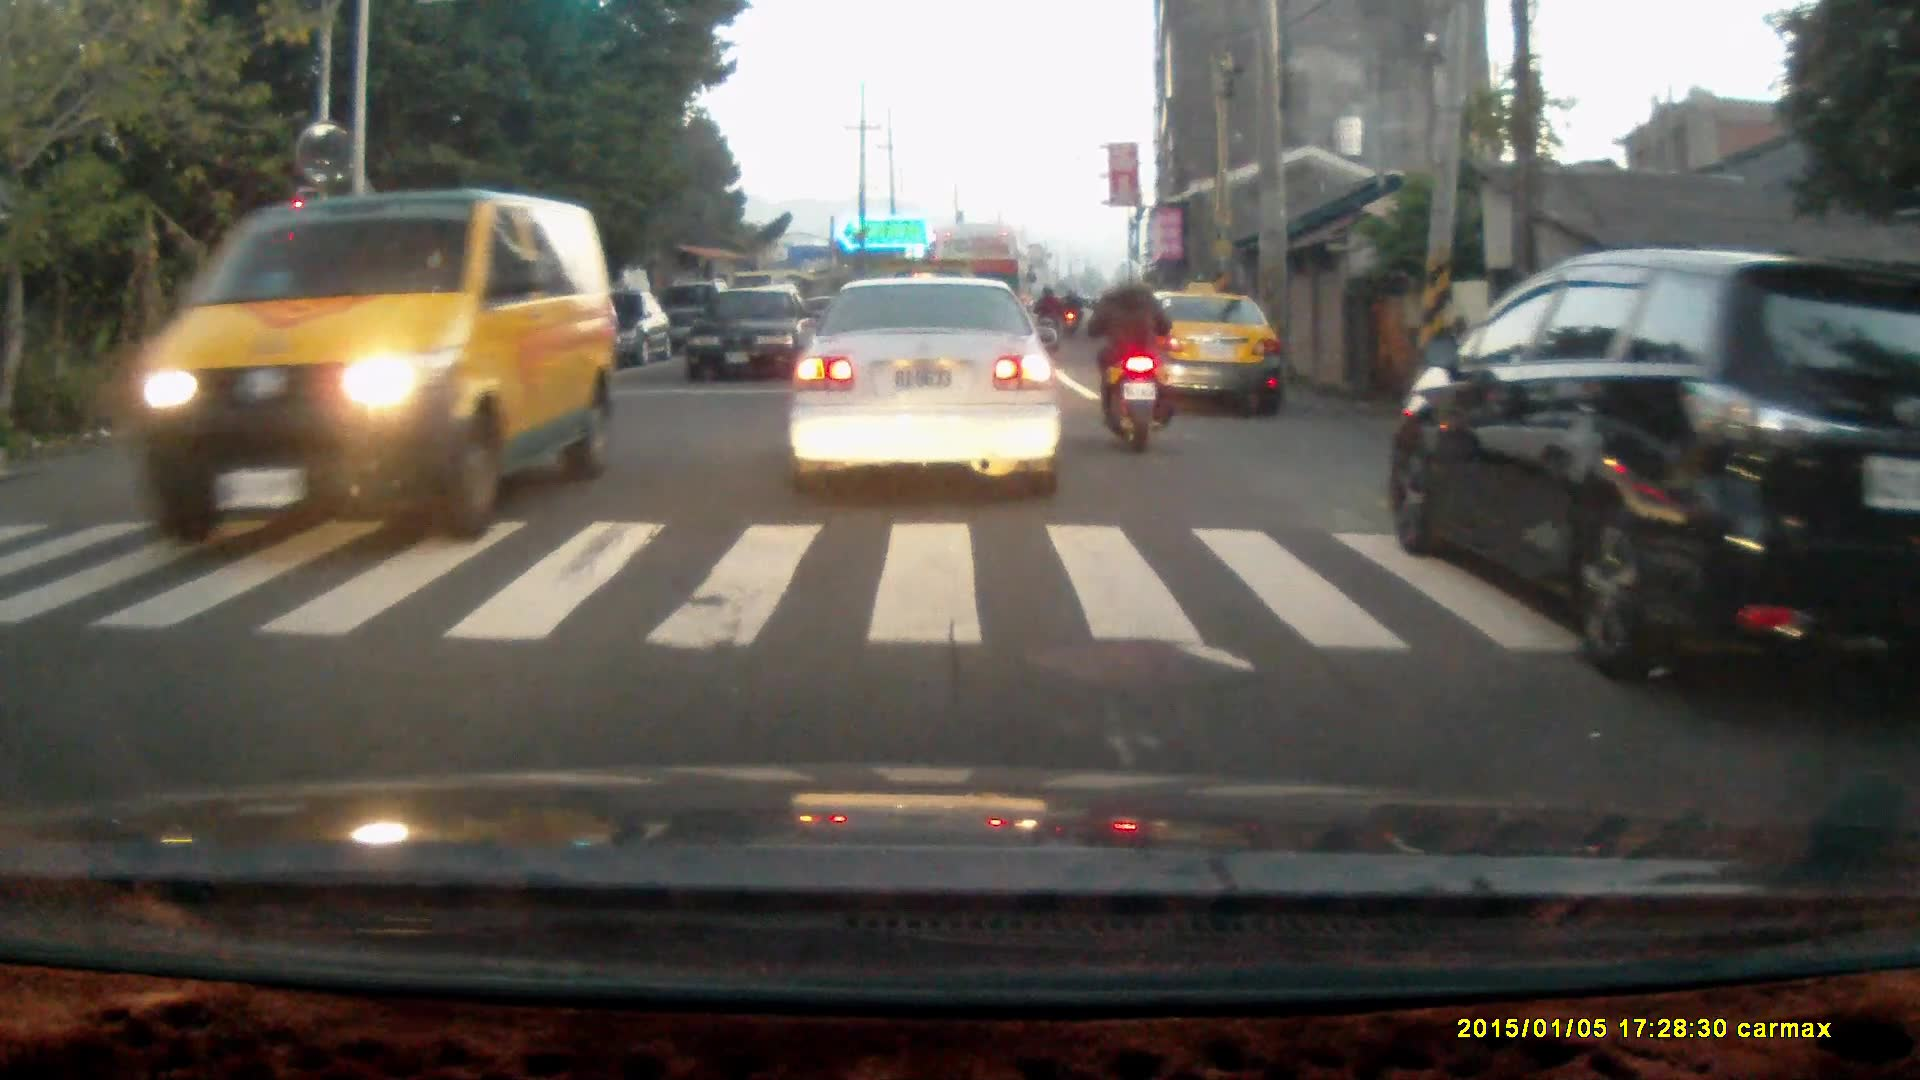rider: (1079, 258, 1171, 455)
vehicle: (1388, 247, 1920, 726), (122, 191, 627, 548), (787, 272, 1066, 501), (1119, 291, 1282, 421), (686, 285, 818, 387)
